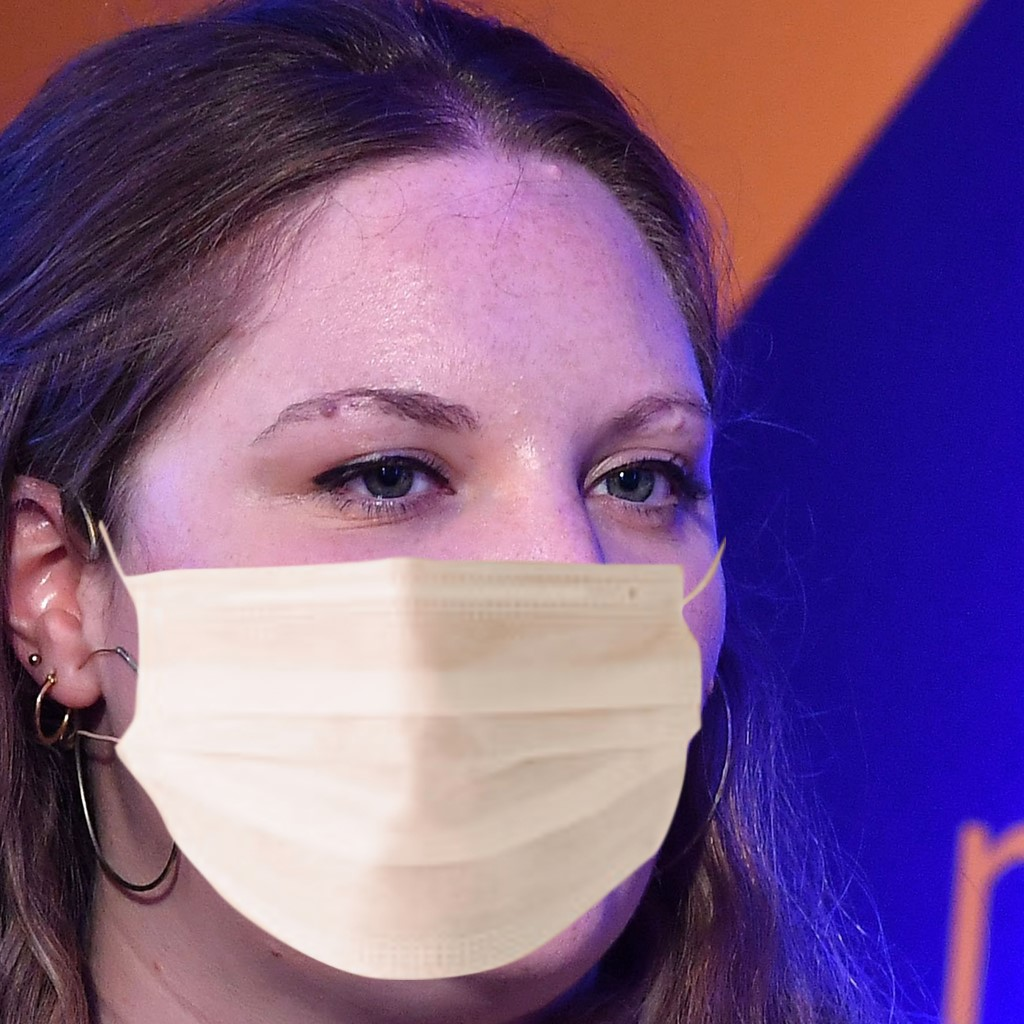con_mascara: (84, 154, 729, 994)
